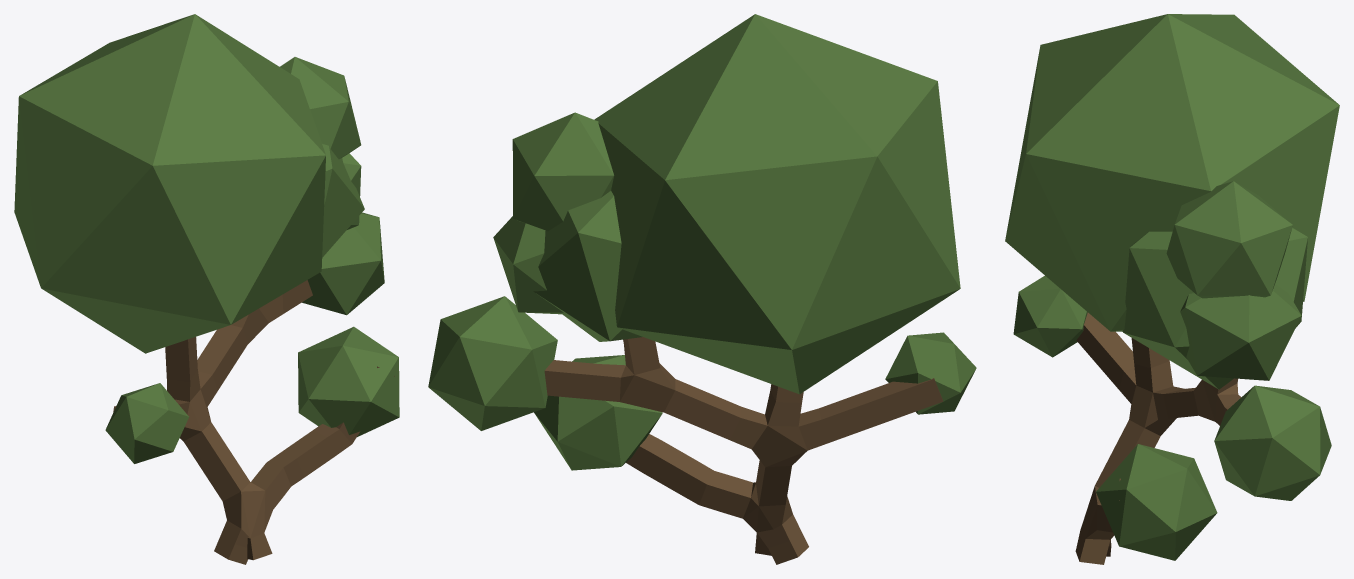
Rendered from grand_arbre.fbx.
3 views of the same model, side by side, from view 1: azimuth 30°, elevation 25°; view 2: azimuth 150°, elevation 25°; view 3: azimuth 270°, elevation 25° (orthographic). The views are drawn at different scales.
Parts seen in each view (by area): view 1: Plan.010; view 2: Plan.010; view 3: Plan.010.
Part boxes in pixels (x1,y1,x2,y2): Plan.010: [14, 14, 399, 564]; Plan.010: [428, 14, 976, 564]; Plan.010: [1005, 14, 1339, 564].
Size of the model in its own units: 1192 by 1471 by 829.
